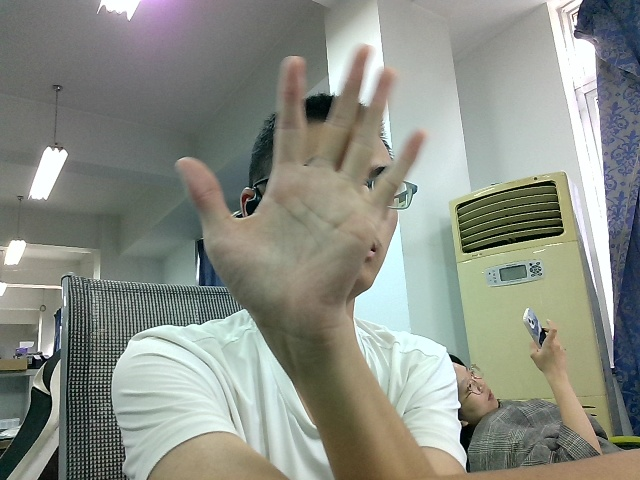paper: (173, 32, 419, 352)
